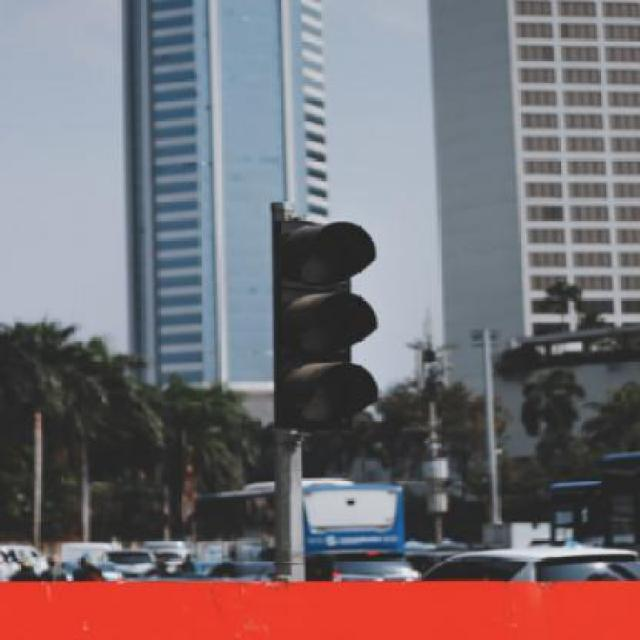Traffic_signal: (260, 214, 378, 432)
